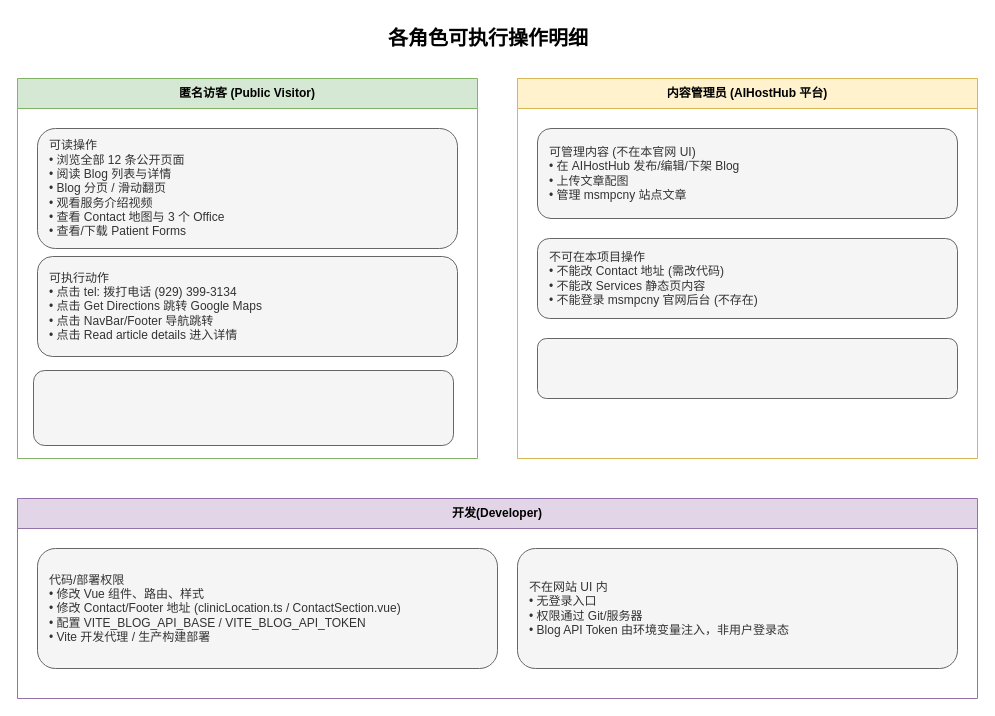
Some shapes in this 995 by 716 pixel diagram are drawn without their labels. The centre of each missing label's shape, as x and y in pixels:
"数据流向 AIHostHub 后台 → Blog API → 官网只读展示" goes at (747,368).
"禁止操作 • 登录/注册 • 编辑/发布/删除文章 • 修改联系地址/页面内容 • 访问任何管理后台" goes at (243,408).
